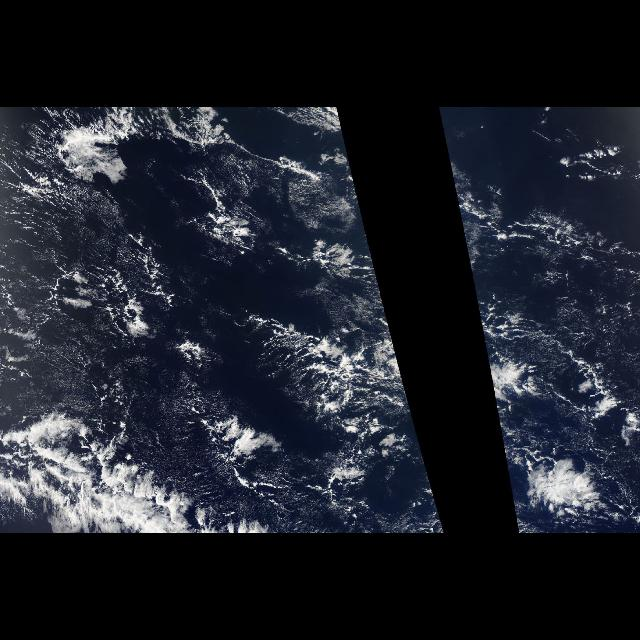Fish: (245, 306, 422, 454), (476, 306, 542, 454)
Sugar: (1, 178, 206, 444), (458, 159, 640, 349), (244, 166, 372, 320)
